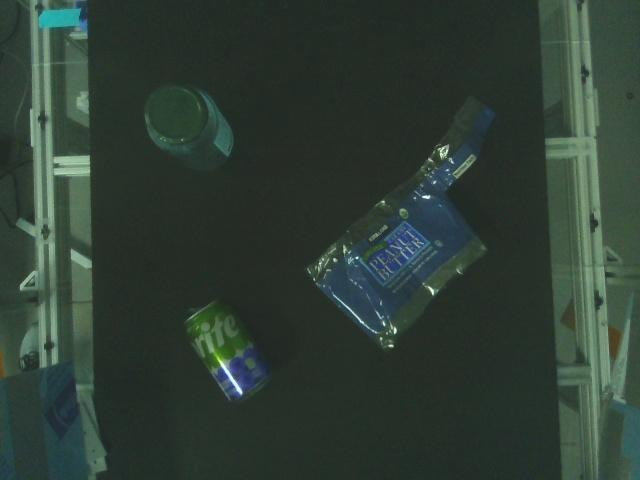glass: (143, 81, 234, 174)
metal: (183, 295, 272, 409)
plastic: (304, 93, 496, 354)
